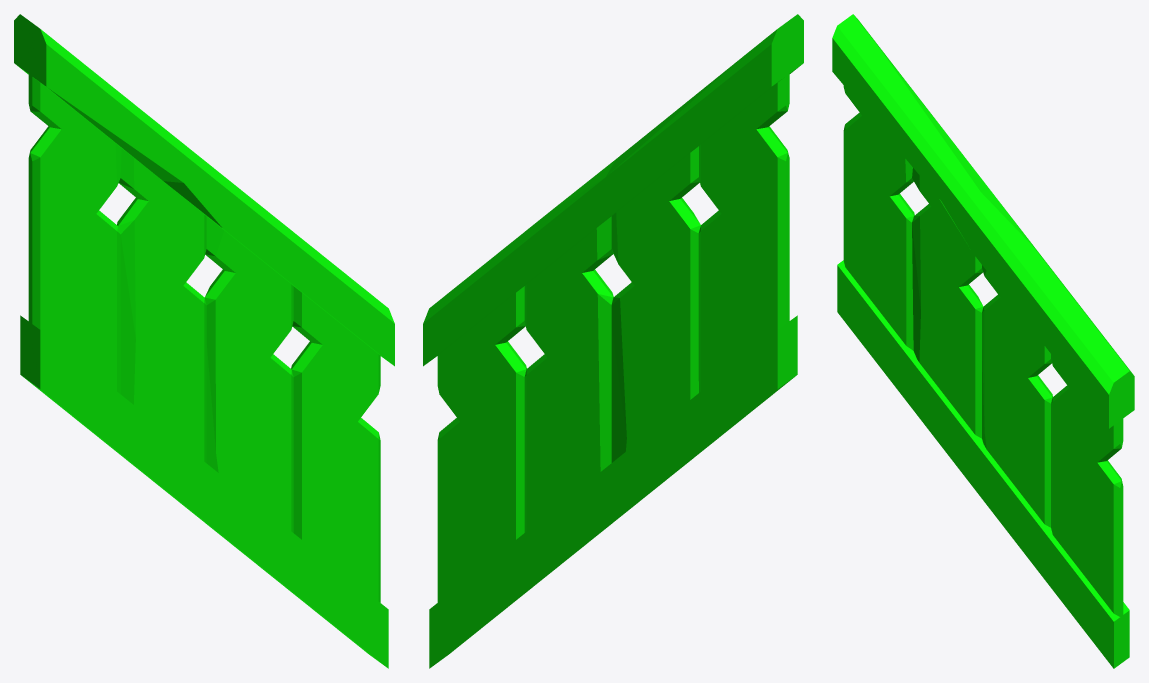
Rendered from SM_Railing_Moderate_Wood_B_1m.fbx.
3 views of the same model, side by side, from view 1: azimuth 30°, elevation 25°; view 2: azimuth 150°, elevation 25°; view 3: azimuth 330°, elevation 25° (orthographic). The views are drawn at different scales.
Visible parts, largest first — view 1: railing-moderate-wood-b-1m; view 2: railing-moderate-wood-b-1m; view 3: railing-moderate-wood-b-1m.
Boxes of the visible parts, bbox=[...] form: railing-moderate-wood-b-1m: bbox=[14, 14, 394, 668]; railing-moderate-wood-b-1m: bbox=[423, 14, 803, 668]; railing-moderate-wood-b-1m: bbox=[832, 14, 1134, 668].
Size of the model in its own units: 1 by 1.99 by 0.16.
